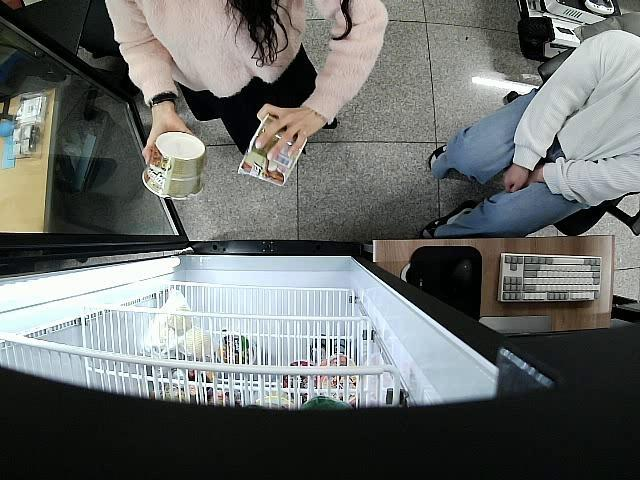03_chapagetti_L: (236, 112, 308, 186), (142, 132, 208, 201)
